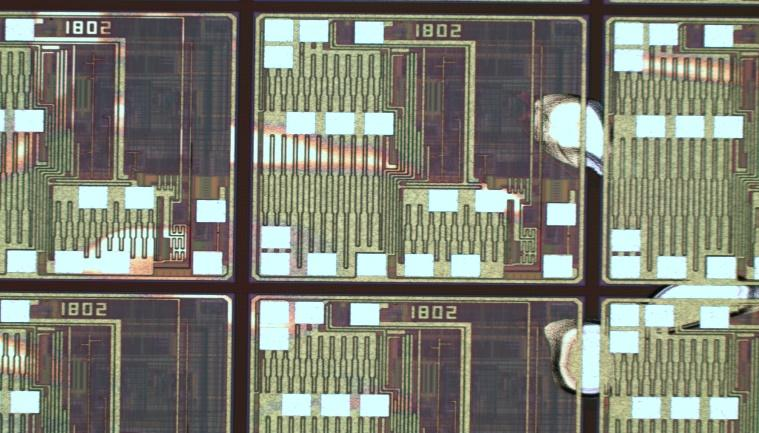COATING BAD: (1, 48, 759, 397)
